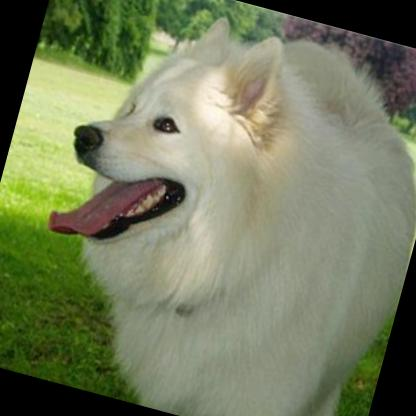Samoyed: (5, 0, 416, 416)
